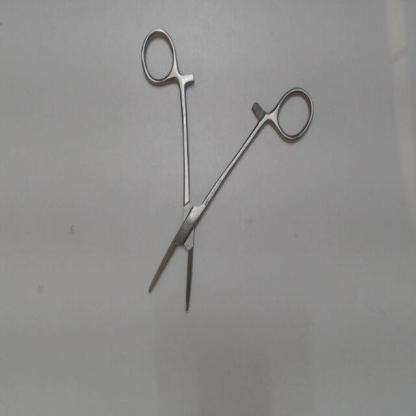Mayo Needle Holder: (135, 23, 321, 323)
